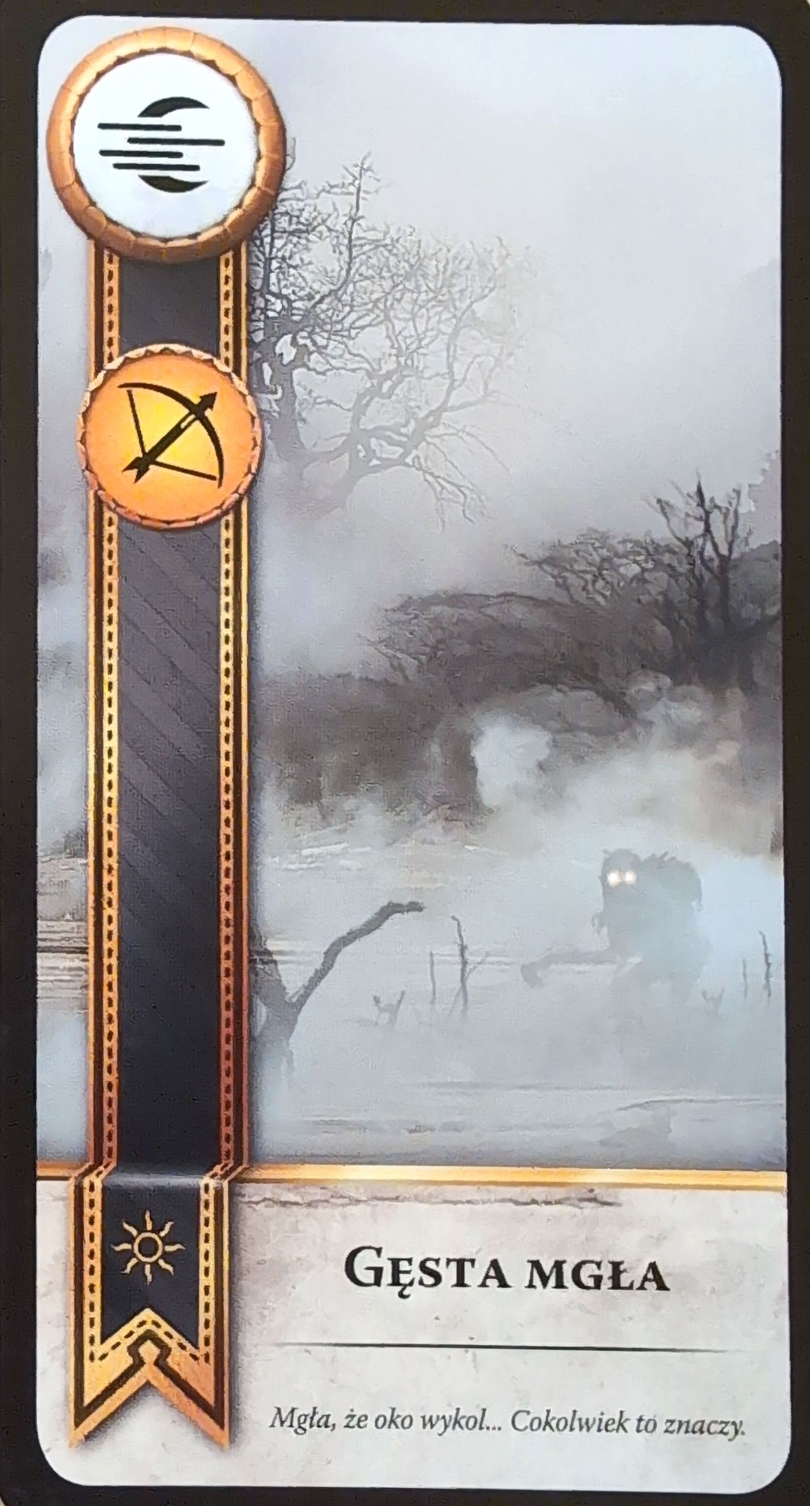lucznik: (75, 345, 269, 531)
mgla: (45, 27, 290, 265)
